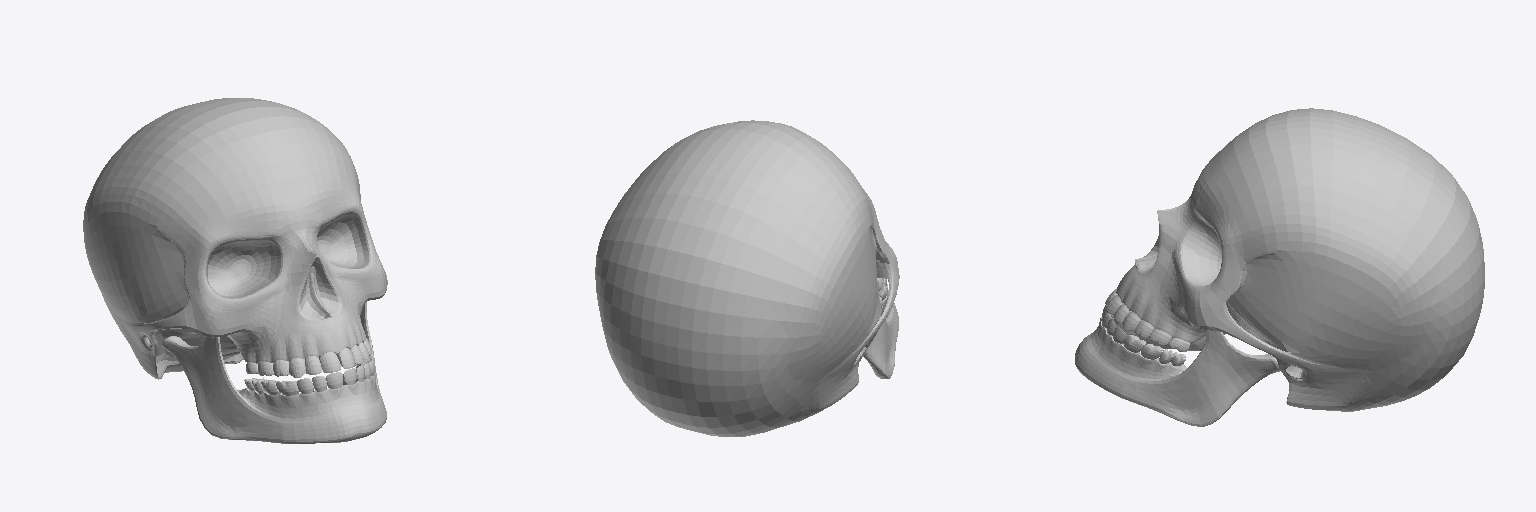
Rendered from skuller.obj.
3 views of the same model, side by side, from view 1: azimuth 30°, elevation 25°; view 2: azimuth 150°, elevation 25°; view 3: azimuth 270°, elevation 25° (orthographic).
Parts seen in each view (by area): view 1: Skull_Object01; view 2: Skull_Object01; view 3: Skull_Object01.
Boxes of the visible parts, x1=… form: Skull_Object01: x1=83, y1=98, x2=387, y2=443; Skull_Object01: x1=595, y1=120, x2=899, y2=436; Skull_Object01: x1=1075, y1=108, x2=1484, y2=426.
Size of the model in its own units: 0.991 by 1.1 by 1.52.